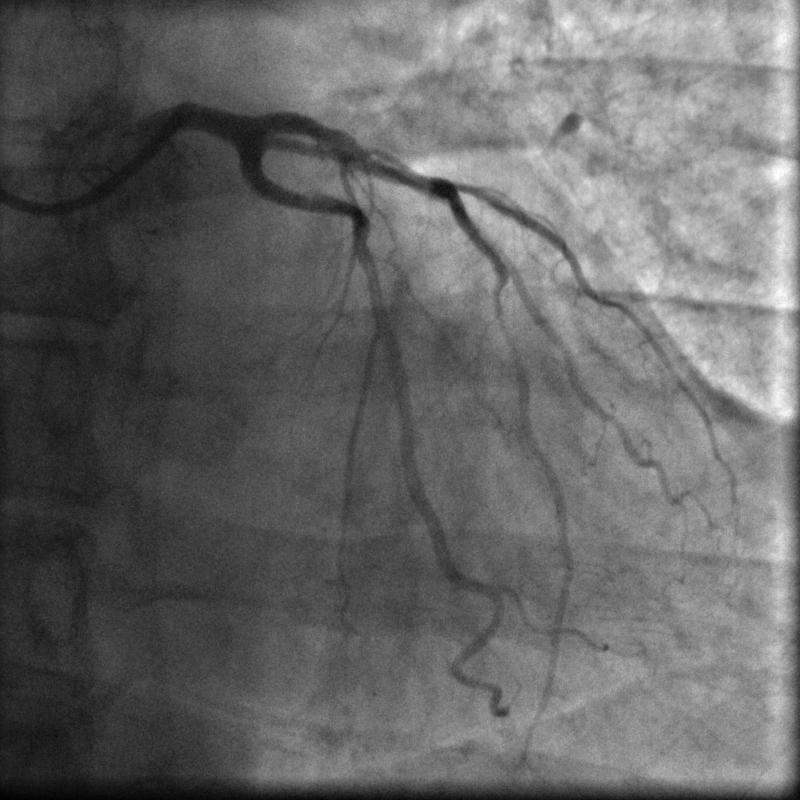Stenosis: (349, 144, 439, 187)
